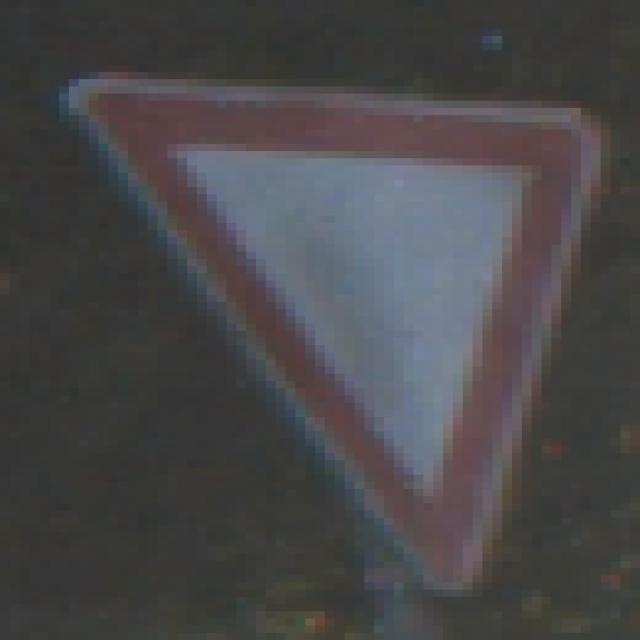Give Way: (60, 59, 592, 591)
